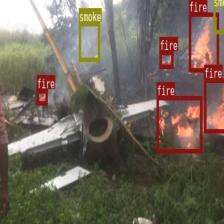fire: (156, 95, 202, 153), (188, 12, 219, 72), (203, 78, 224, 132), (159, 50, 173, 68), (36, 89, 48, 104)
smoke: (78, 22, 100, 61), (213, 0, 224, 33)
